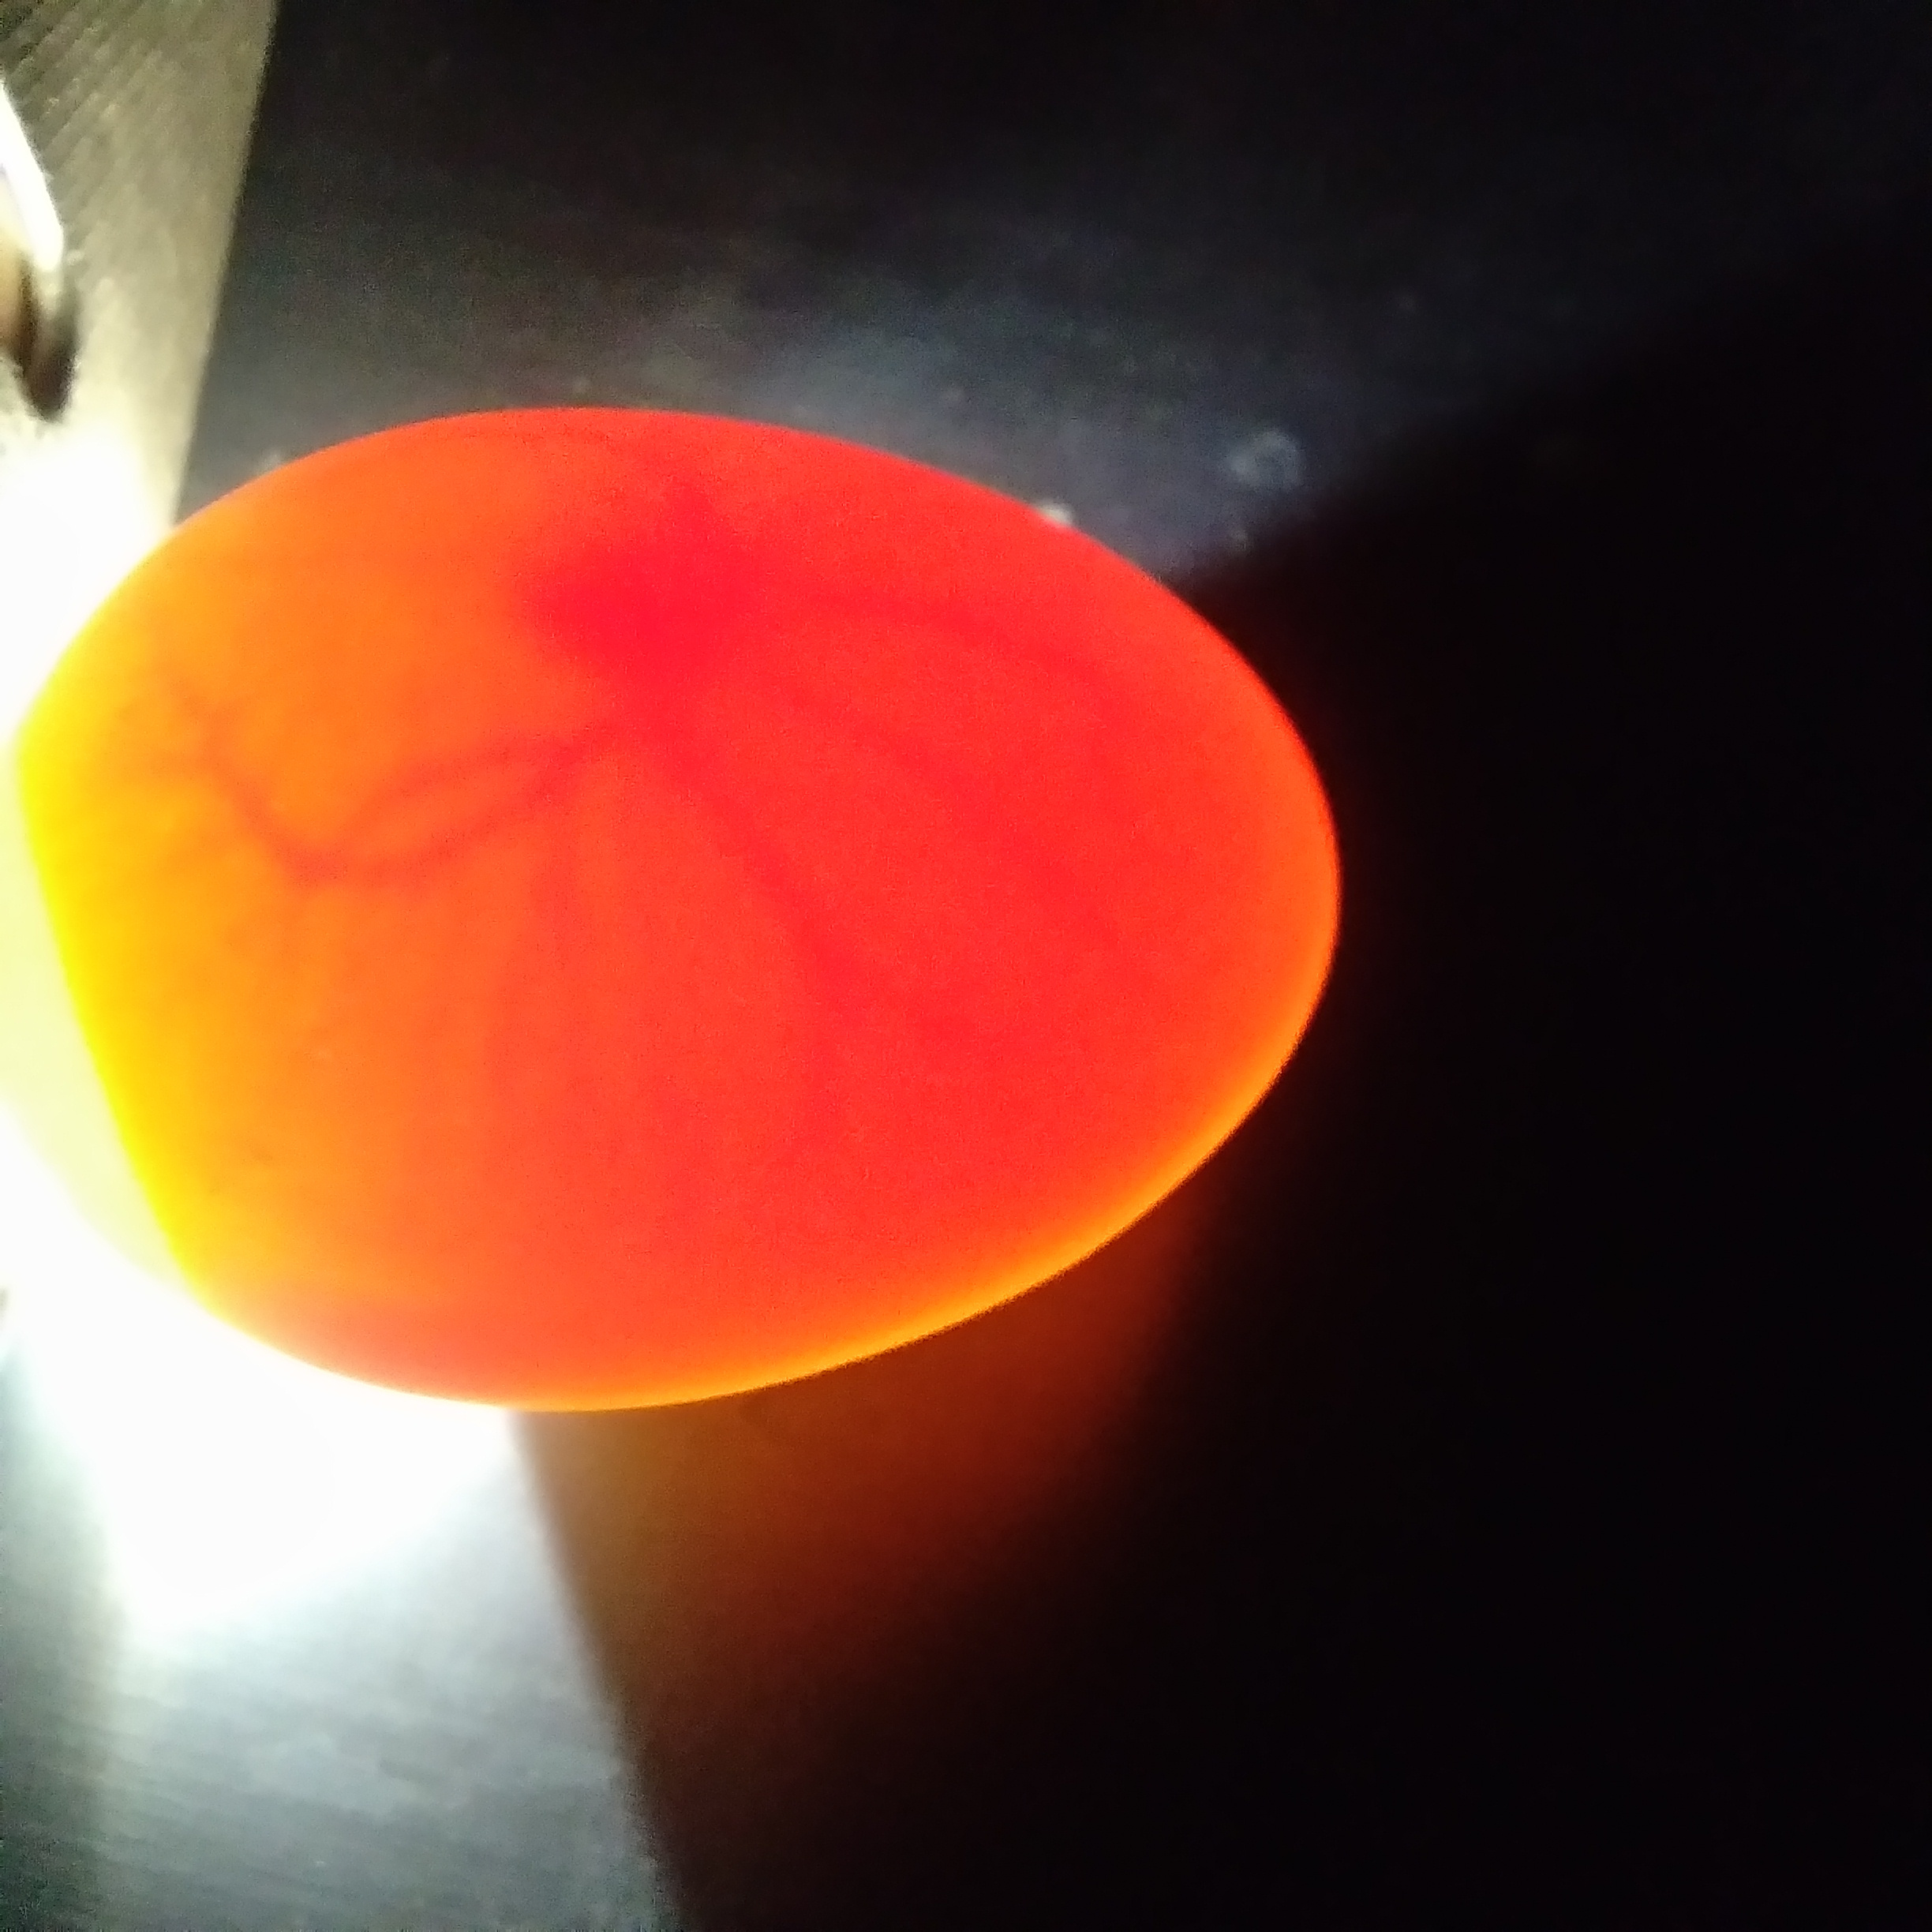bloodcell: (163, 653, 764, 1001)
